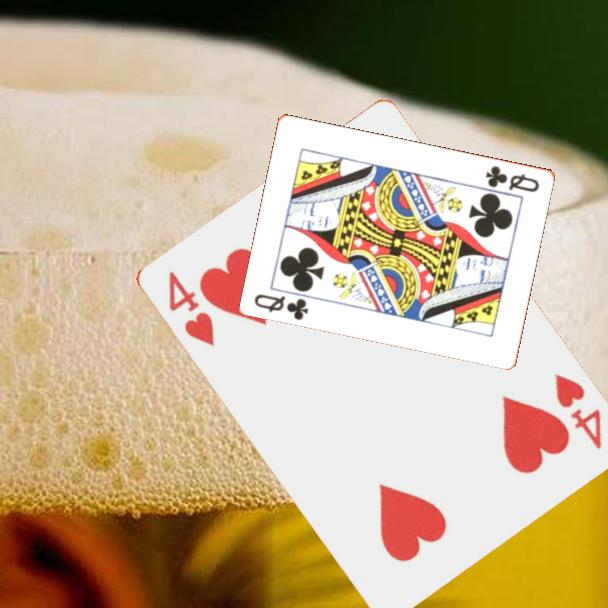c12: (251, 290, 312, 323), (482, 162, 542, 195)
h04: (550, 369, 604, 453), (164, 267, 217, 350)
